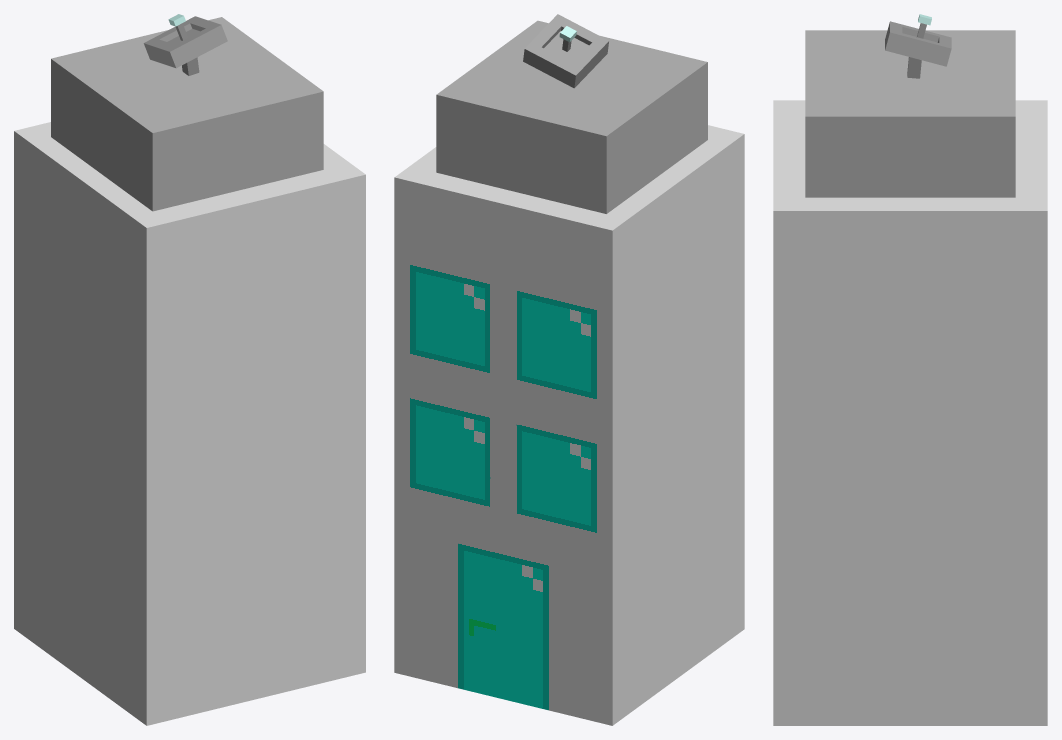
File: Edificio generico.gltf
3 renders of one model, left to right at view 1: azimuth 30°, elevation 25°; view 2: azimuth 150°, elevation 25°; view 3: azimuth 270°, elevation 25°, orthographic. The views are drawn at different scales.
Visible parts, largest first — view 1: cube (×4); view 2: cube (×5); view 3: cube (×3).
Part boxes in pixels (x1,y1,x2,y2): cube (×4): (14,17,365,725); cube (×5): (394,14,744,725); cube (×3): (773,28,1047,725).
Size of the model in its own units: 2.56 by 7.06 by 2.69.
1 material, 1 textured.
